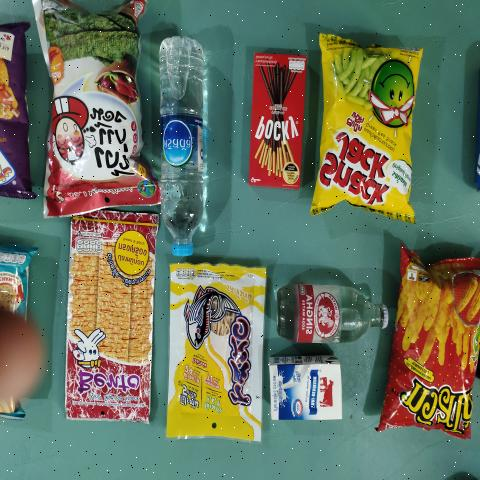bento_red: (73, 223, 149, 418)
crystal: (166, 34, 207, 259)
pokki: (247, 53, 308, 186)
singha_soda: (274, 281, 396, 346)
snack_jack: (322, 43, 417, 205)
taokaenoi: (49, 10, 139, 212)
taro_yellow: (171, 281, 257, 435)
thai_denmark: (270, 360, 338, 421)
twisco: (390, 251, 480, 429)
